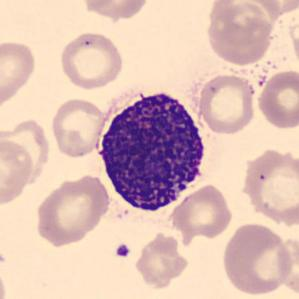Basophil: (90, 82, 214, 215)
Platelets: (114, 242, 132, 260)
RBC: (33, 172, 112, 247), (219, 221, 296, 296), (238, 146, 298, 228), (204, 1, 276, 66), (58, 30, 126, 91), (197, 71, 257, 136), (169, 182, 235, 240), (2, 115, 52, 190), (131, 230, 191, 290), (49, 96, 106, 159), (0, 37, 38, 110), (255, 69, 298, 130), (0, 134, 36, 200), (273, 233, 298, 298), (80, 0, 151, 21), (249, 0, 299, 17), (287, 12, 299, 70), (0, 261, 9, 299)
